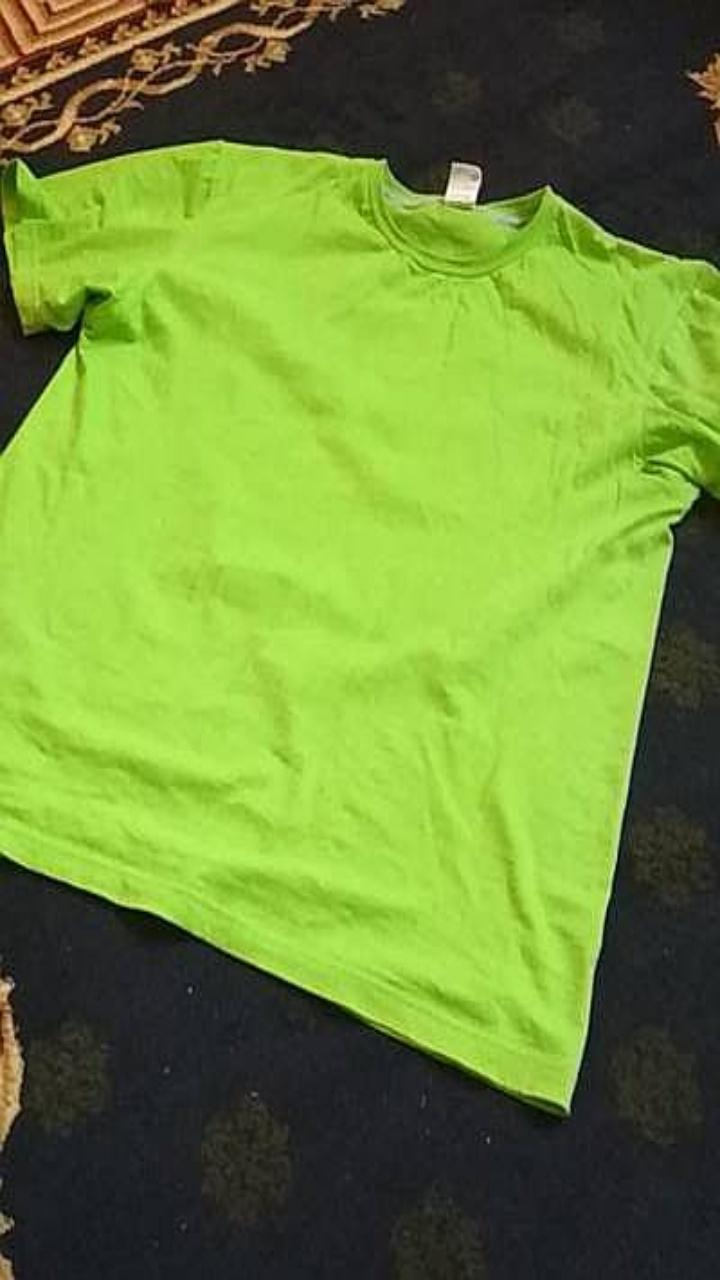T-Shirt: (0, 141, 719, 1112)
